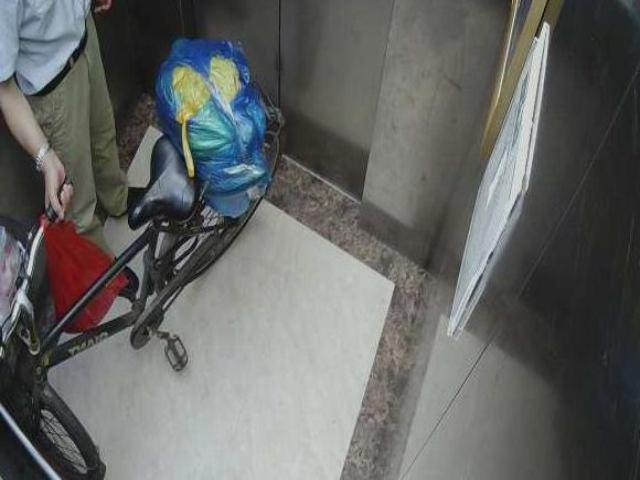bicycle: (3, 42, 294, 479)
